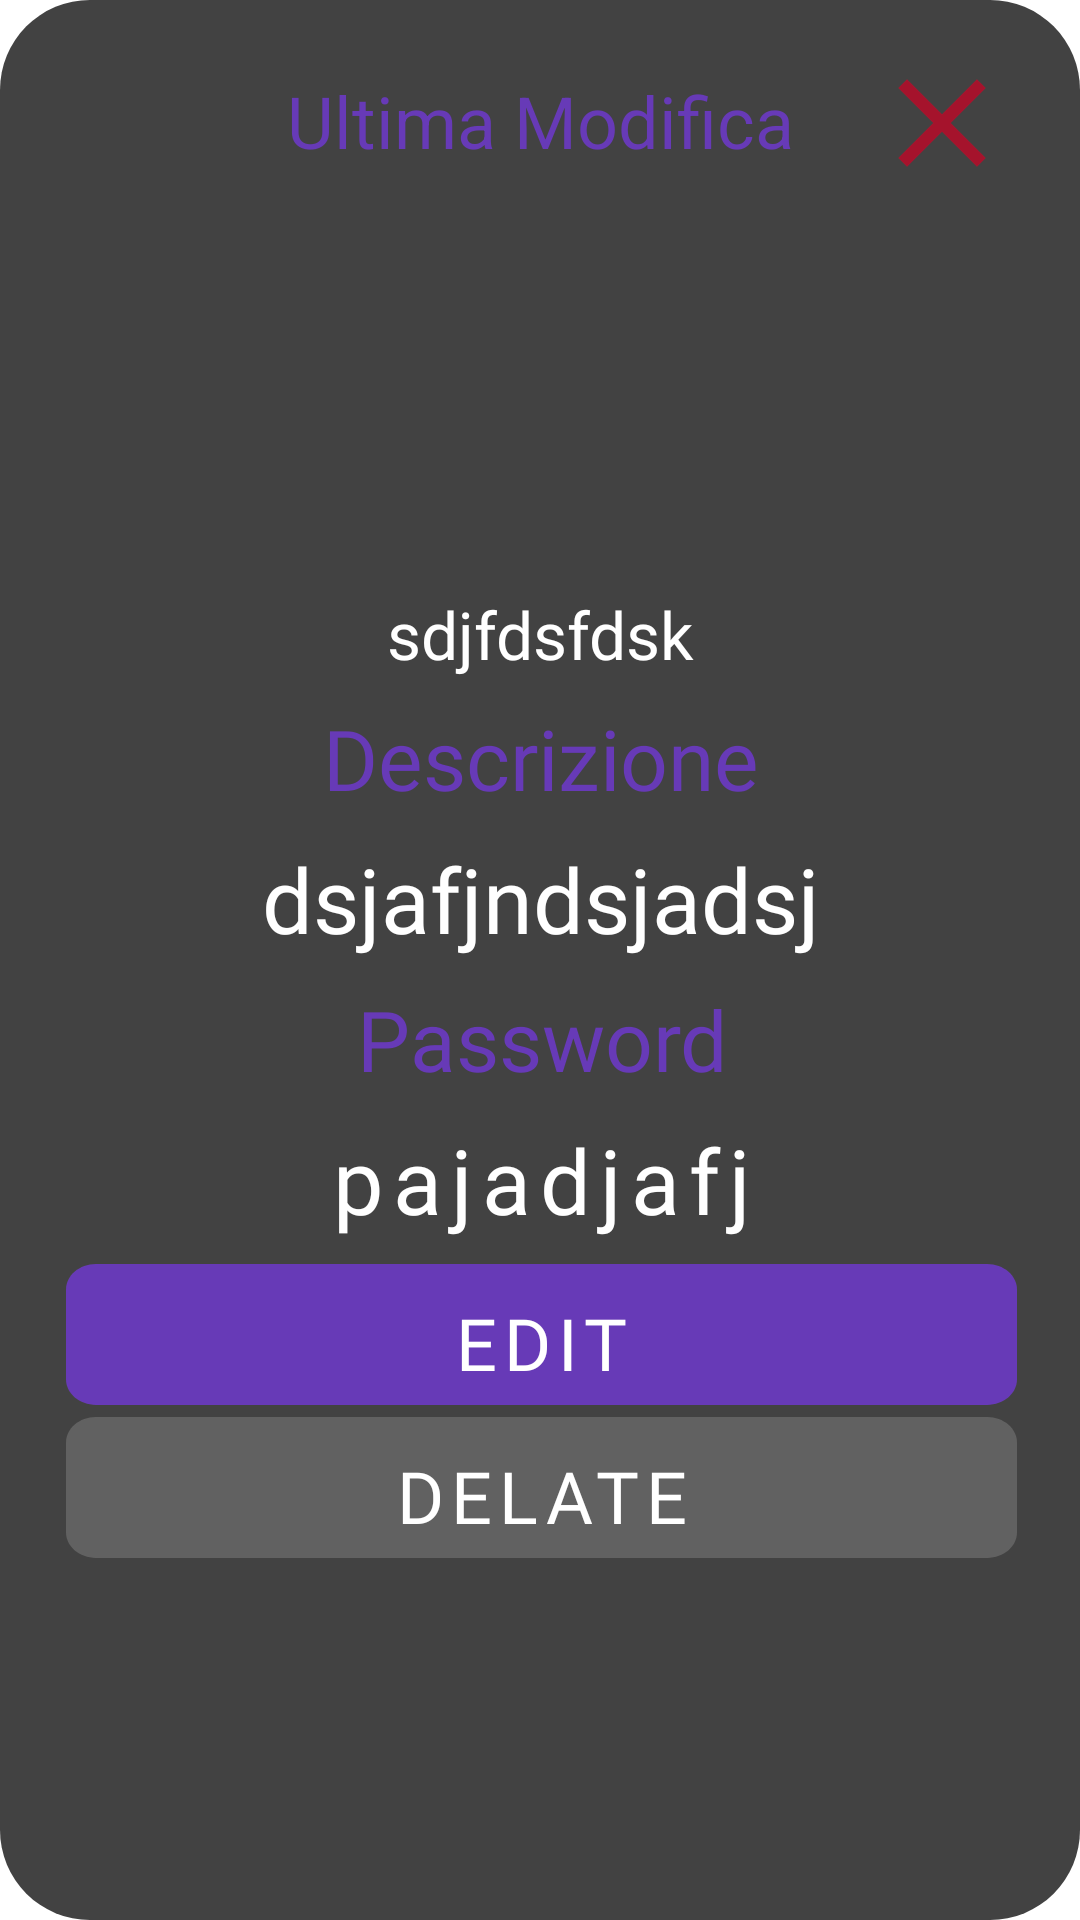

Icons on this 1080w x 1920h Android screen, each with the point to tap as point (x, y):
close: point (942, 123)
